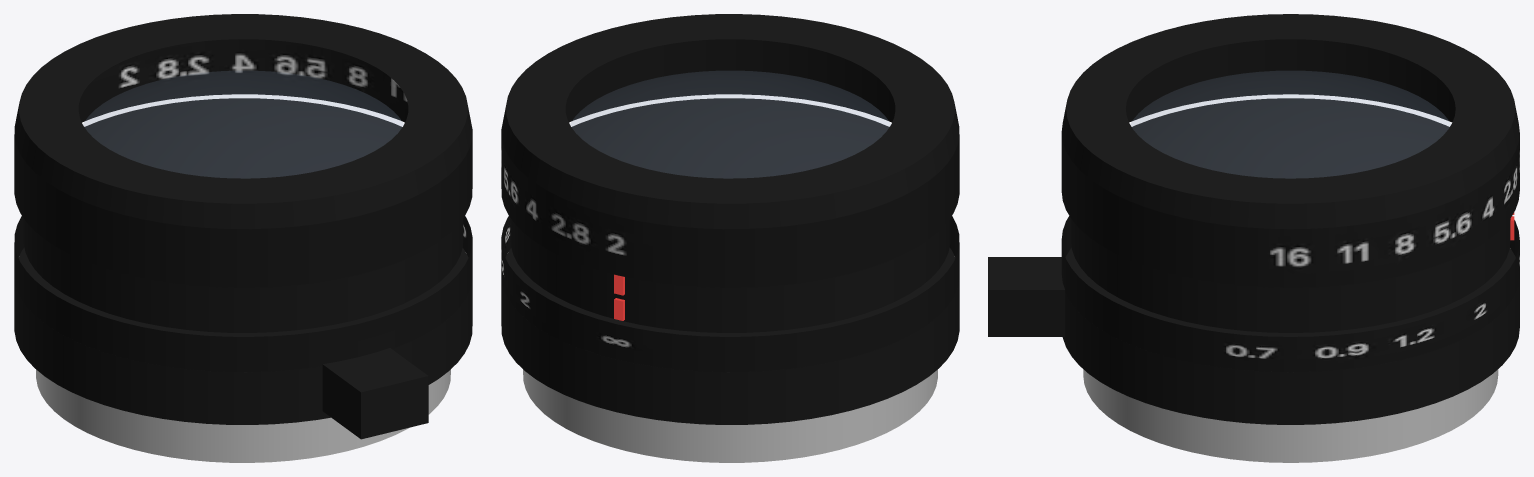
The model's file is lens-m-35-2.base.glb.
3 views of the same model, side by side, from view 1: azimuth 30°, elevation 25°; view 2: azimuth 150°, elevation 25°; view 3: azimuth 270°, elevation 25° (orthographic).
Parts seen in each view (by area): view 1: lens, focus-ring, aperture-ring; view 2: lens, focus-ring, aperture-ring; view 3: lens, focus-ring, aperture-ring.
Boxes of the visible parts, x1,y1,x2,y2 form: lens: (14,14,472,462); focus-ring: (14,216,472,439); aperture-ring: (14,39,472,287); lens: (501,14,959,462); focus-ring: (501,216,959,424); aperture-ring: (501,39,959,287); lens: (1061,14,1519,462); focus-ring: (988,216,1519,424); aperture-ring: (1061,39,1519,287).
Size of the model in its own units: 0.053 by 0.0342 by 0.0615.
Materials: 6 (2 with a texture image).
